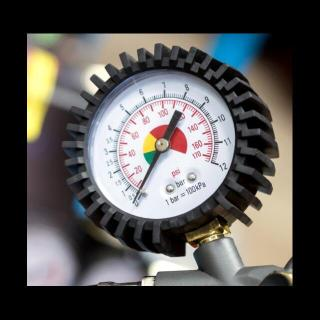gauge: (27, 34, 293, 286), (199, 151, 227, 175), (126, 186, 150, 212), (153, 135, 171, 153), (128, 196, 138, 206)
